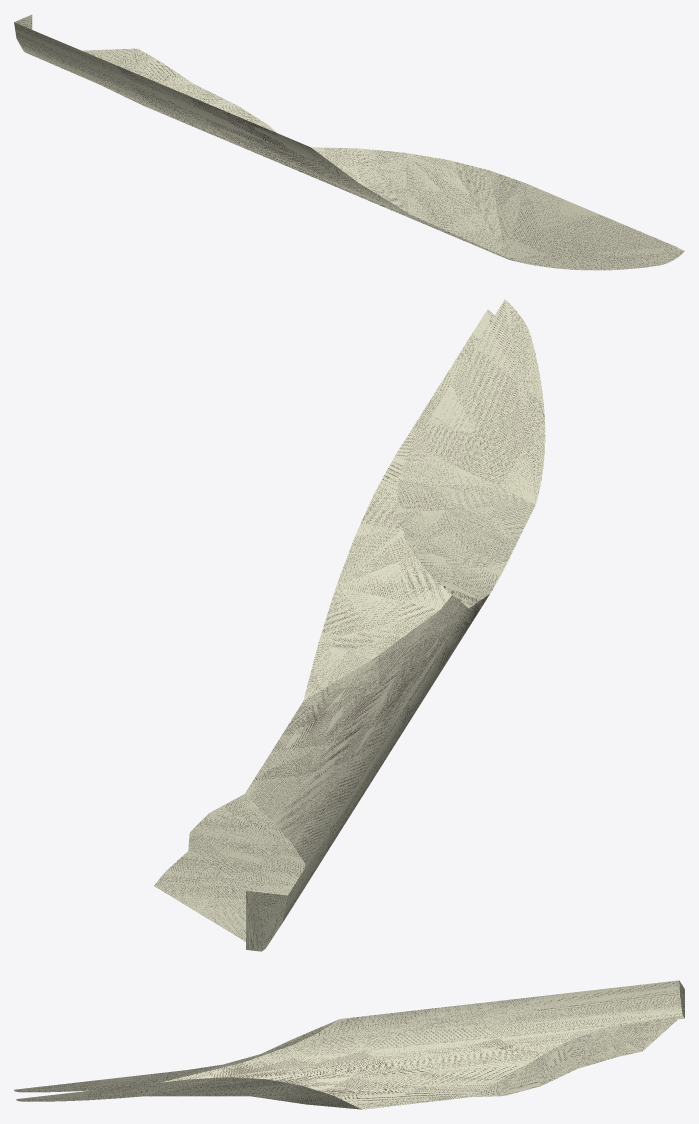
File: original-80.obj
The picture shows the model from 3 angles, top to bottom: view 1: azimuth 30°, elevation 25°; view 2: azimuth 150°, elevation 25°; view 3: azimuth 270°, elevation 25°; orthographic projection. The views are drawn at different scales.
Visible parts, largest first — view 1: #ID361; view 2: #ID361; view 3: #ID361.
Boxes of the visible parts, x1,y1,x2,y2 form: #ID361: (14, 14, 684, 270); #ID361: (154, 299, 545, 951); #ID361: (14, 980, 684, 1109).
Bounding box in the file's own units: 0.0649 × 0.0149 × 0.1629.
